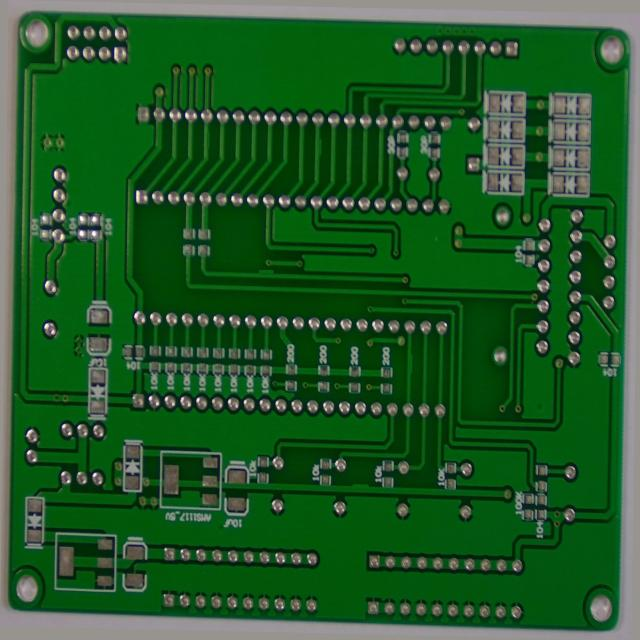spur: (351, 479, 374, 495), (253, 264, 275, 279), (405, 351, 417, 375), (311, 131, 323, 153), (197, 127, 209, 148)
